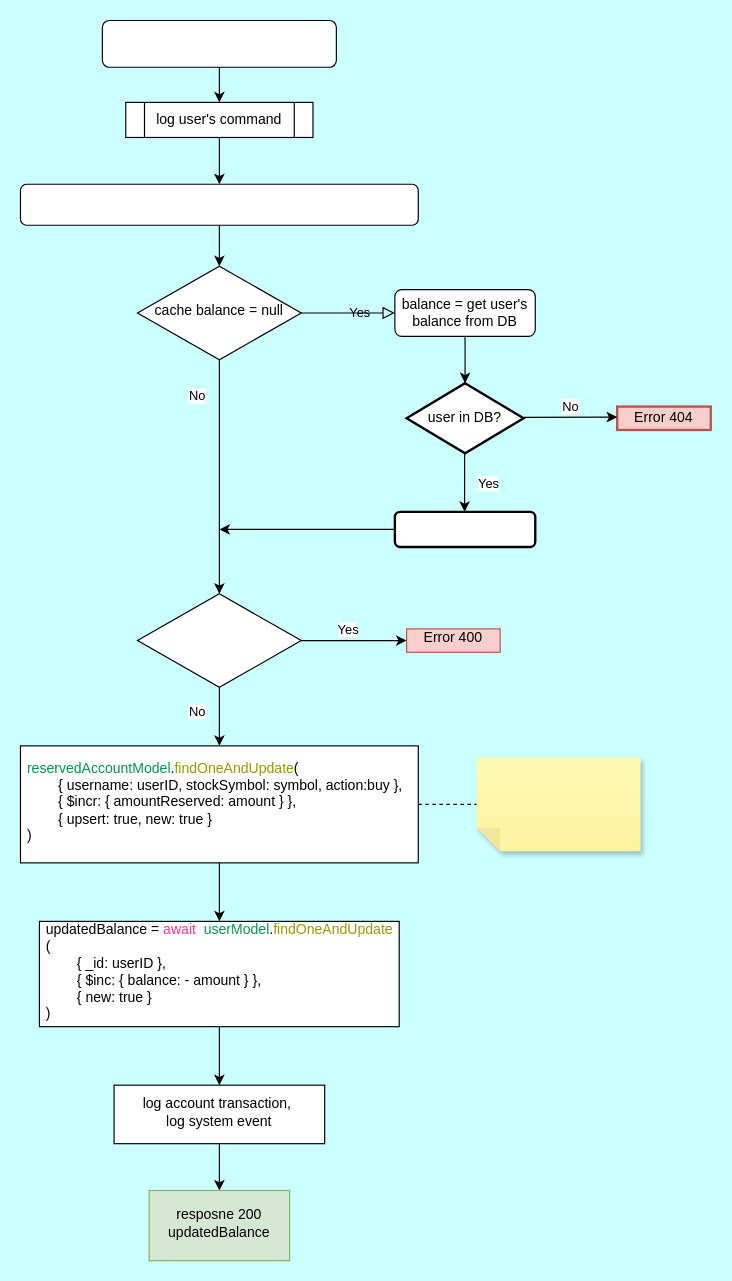
This 732x1281 diagram has some shape labels left out. The centre of each missing label's shape, as x and y in pixels:
"balance < amount ?" belongs at pixel 218 640.
"balance = get user's balance from cache (with key = userID)" belongs at pixel 218 204.
"if document not found, auto insert new one, else return updated document" belongs at pixel 559 805.
"store user to cache" belongs at pixel 464 529.
"transactionNum = increment transactionNum in cache and return" belongs at pixel 218 43.
